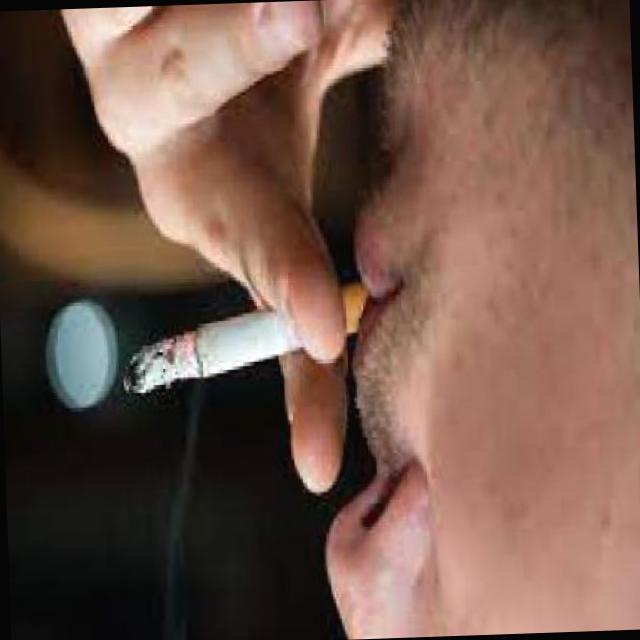smoke: (117, 281, 378, 402)
